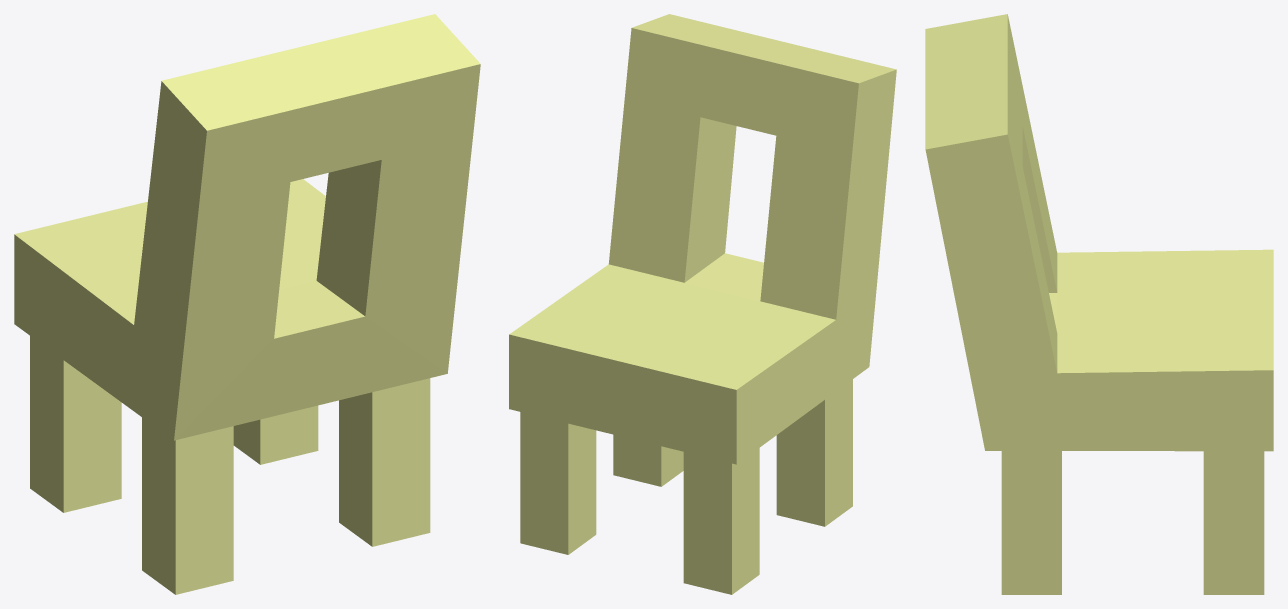
Rendered from chair01_s02.FBX.
3 views of the same model, side by side, from view 1: azimuth 30°, elevation 25°; view 2: azimuth 150°, elevation 25°; view 3: azimuth 270°, elevation 25° (orthographic). The views are drawn at different scales.
Visible parts, largest first — view 1: chair01_s02; view 2: chair01_s02; view 3: chair01_s02.
Boxes of the visible parts, bbox=[...] form: chair01_s02: bbox=[14, 14, 480, 594]; chair01_s02: bbox=[509, 14, 896, 594]; chair01_s02: bbox=[925, 14, 1273, 594].
Bounding box in the file's own units: 63.49 × 77.48 × 114.
1 material, 1 textured.
